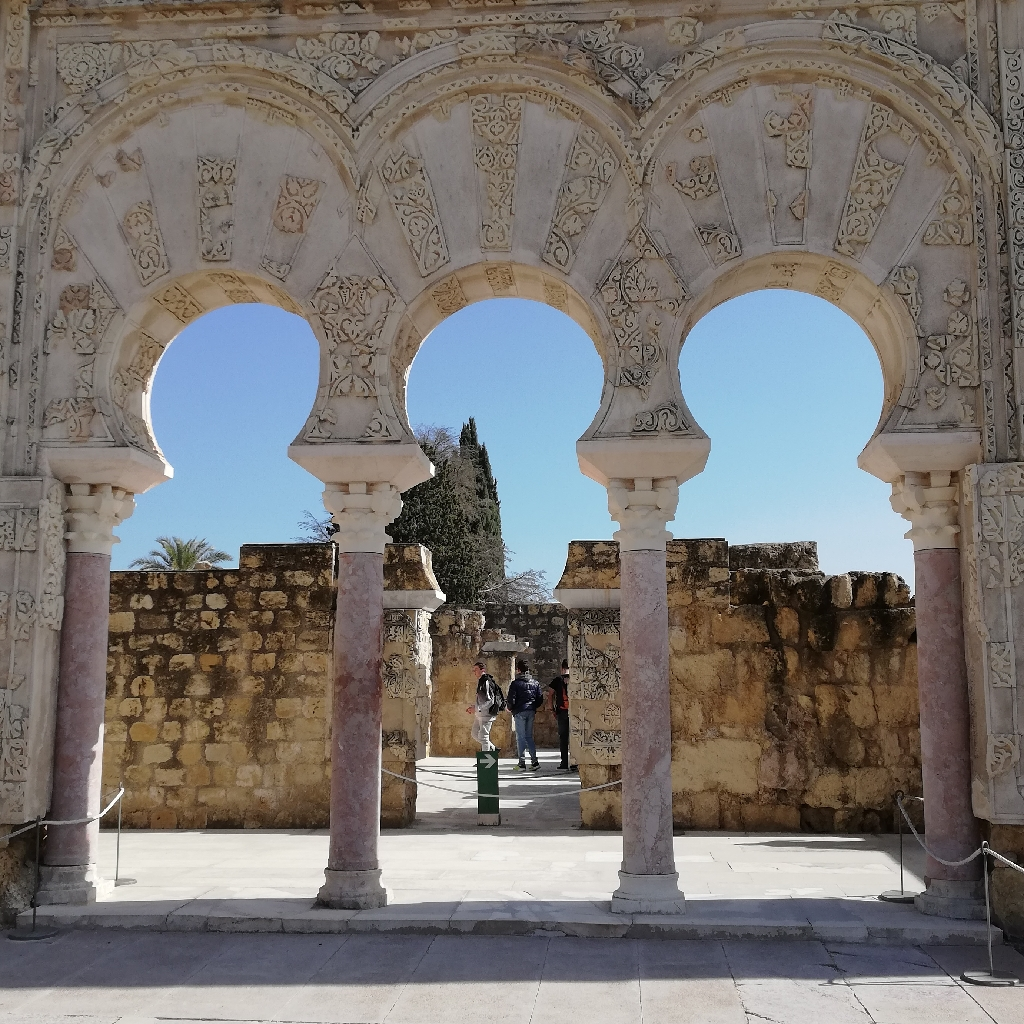arco-herradura: (631, 227, 934, 510), (360, 244, 643, 504), (84, 253, 357, 514)
